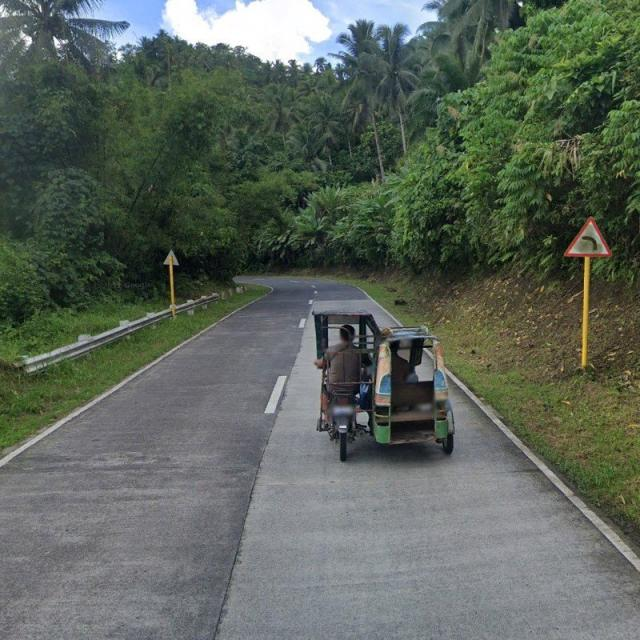warn_left_curve: (563, 217, 612, 258)
